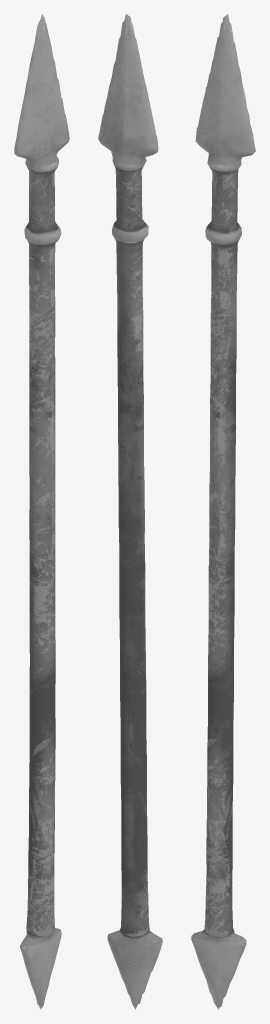
Rendered from Spear_double-tipped.glb.
The picture shows the model from 3 angles, left to right: view 1: azimuth 30°, elevation 25°; view 2: azimuth 150°, elevation 25°; view 3: azimuth 330°, elevation 25°; orthographic projection.
Parts seen in each view (by area): view 1: Cylinder.005; view 2: Cylinder.005; view 3: Cylinder.005.
Part boxes in pixels (left/top/right/bottom): Cylinder.005: left=14, top=14, right=69, bottom=1009; Cylinder.005: left=98, top=14, right=162, bottom=1009; Cylinder.005: left=191, top=14, right=255, bottom=1009.
Size of the model in its own units: 0.1766 by 2.94 by 0.0987.
Materials: 1 (1 with a texture image).
